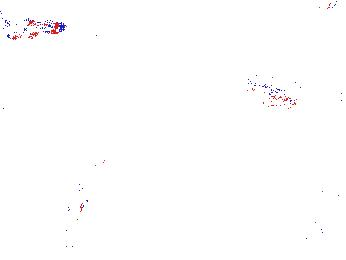glassfish: (66, 152, 106, 228)
red belly glassfish: (242, 81, 296, 110), (303, 80, 346, 97)
redtail glassfish: (1, 13, 68, 35)
